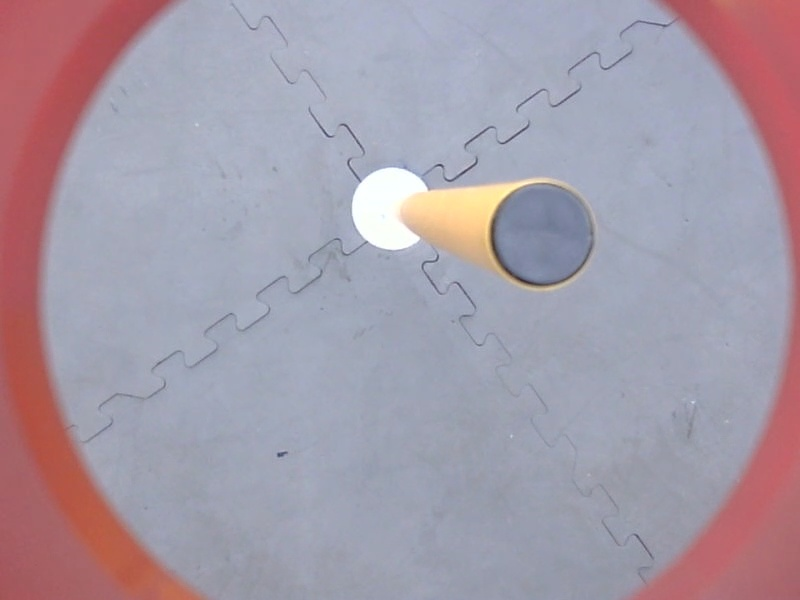tip: (482, 174, 602, 298)
